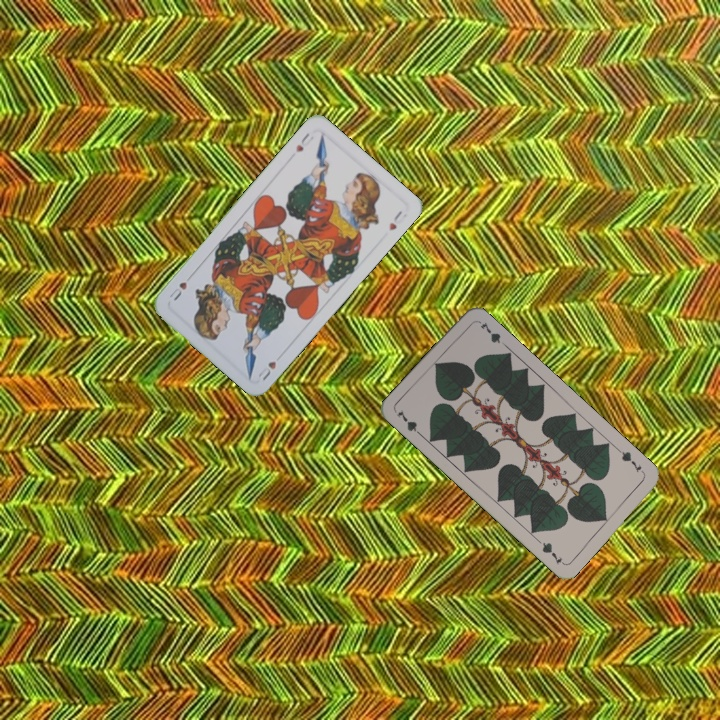G7: (392, 405, 426, 439), (614, 445, 647, 477)
HU: (291, 129, 316, 155), (254, 357, 279, 383)
